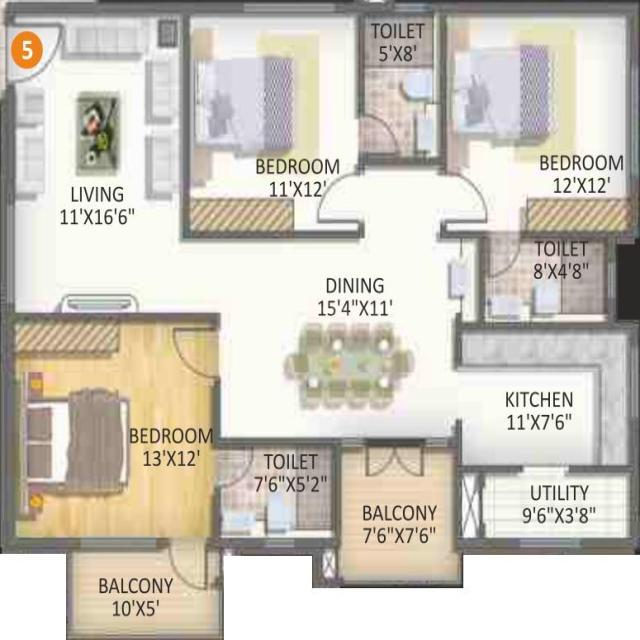Balcony-Sitout: (340, 448, 457, 580), (72, 553, 220, 636)
Bedroom with Toilet: (11, 319, 336, 540), (442, 8, 636, 325), (187, 10, 439, 234)
Dining: (280, 316, 418, 421)
Enterance-Foyer: (5, 22, 65, 88)
Kitchen: (462, 334, 627, 464)
Living: (15, 16, 182, 314)
Toilet: (219, 449, 334, 538), (484, 238, 607, 321), (365, 17, 436, 156)
Utility: (482, 472, 629, 538)
